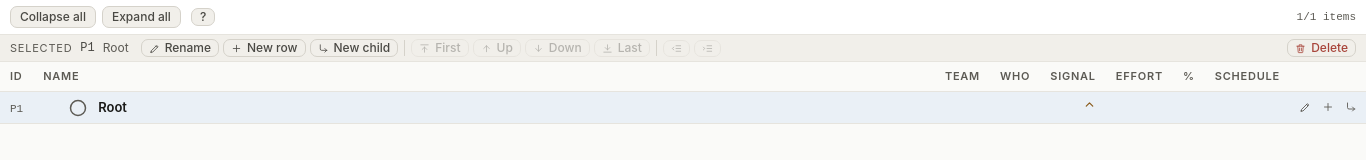
Test case: tree editor — keyboard model › Enter opens an inline editor, and a second Enter saves the row and closes it
Press Enter in the element with test id "tree-editor-surface"
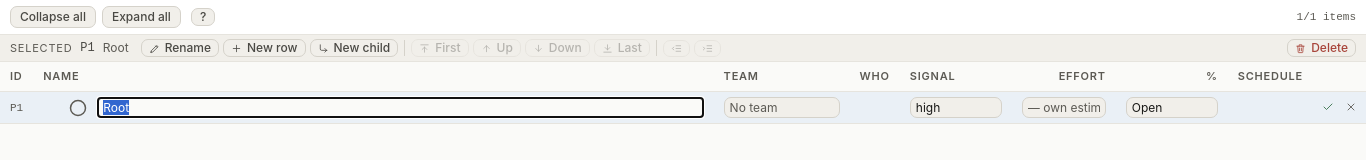
Now the field with test id "tree-name-input-P1" holds "Root"
Replace the text in the field with test id "tree-name-input-P1" with "Root renamed" at {"x": 400, "y": 107}, box [97, 96, 704, 118]
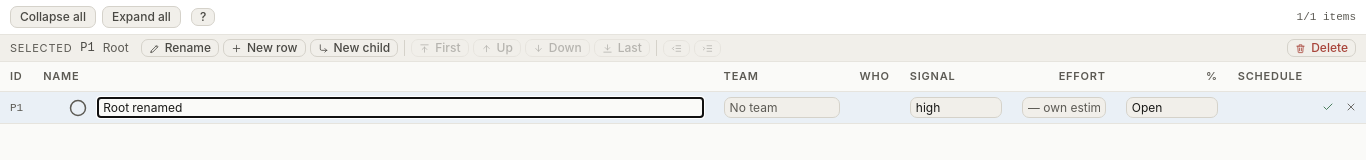
Press Enter in the field with test id "tree-name-input-P1", box [97, 96, 704, 118]
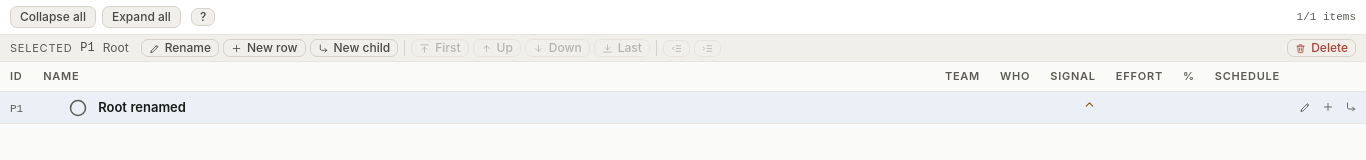
Now the field with test id "tree-name-input-P1" is gone
